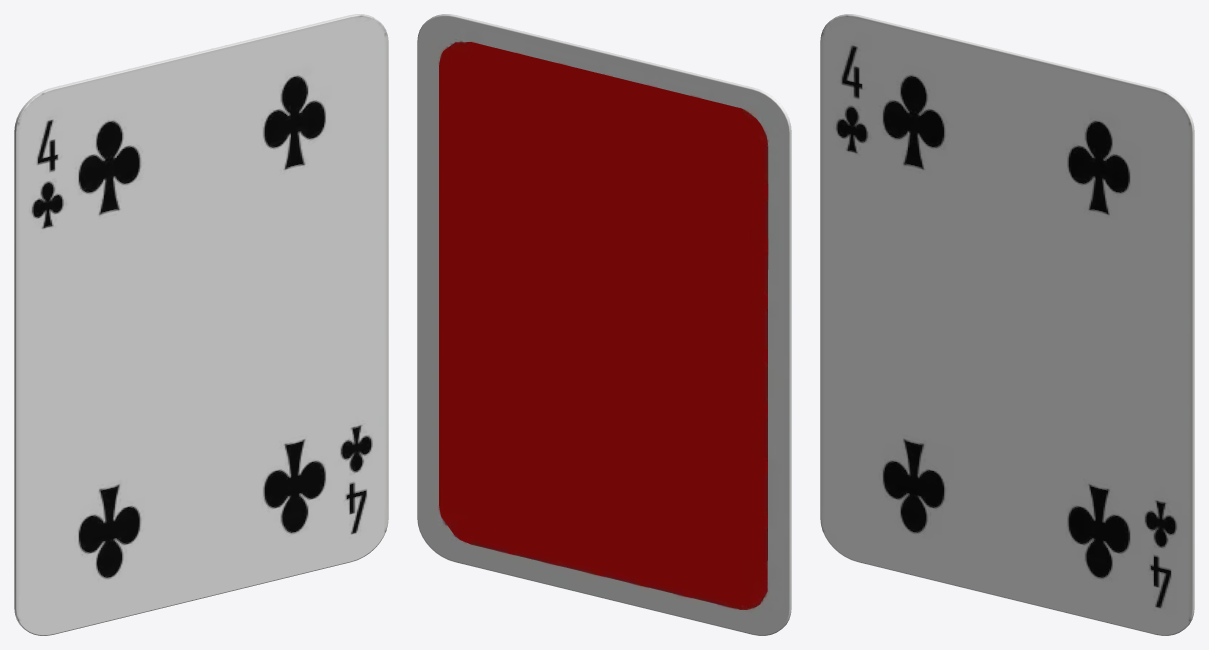
The model's file is clubs_4-transformed.glb.
3 views of the same model, side by side, from view 1: azimuth 30°, elevation 25°; view 2: azimuth 150°, elevation 25°; view 3: azimuth 330°, elevation 25° (orthographic).
Parts seen in each view (by area): view 1: defaultMaterial.020; view 2: defaultMaterial.020; view 3: defaultMaterial.020.
Boxes of the visible parts, left/top/right/bottom form: defaultMaterial.020: left=14, top=14, right=388, bottom=635; defaultMaterial.020: left=417, top=14, right=791, bottom=635; defaultMaterial.020: left=820, top=14, right=1194, bottom=635.
Size of the model in its own units: 0.1408 by 0.1972 by 0.00111.
Materials: 1 (1 with a texture image).
